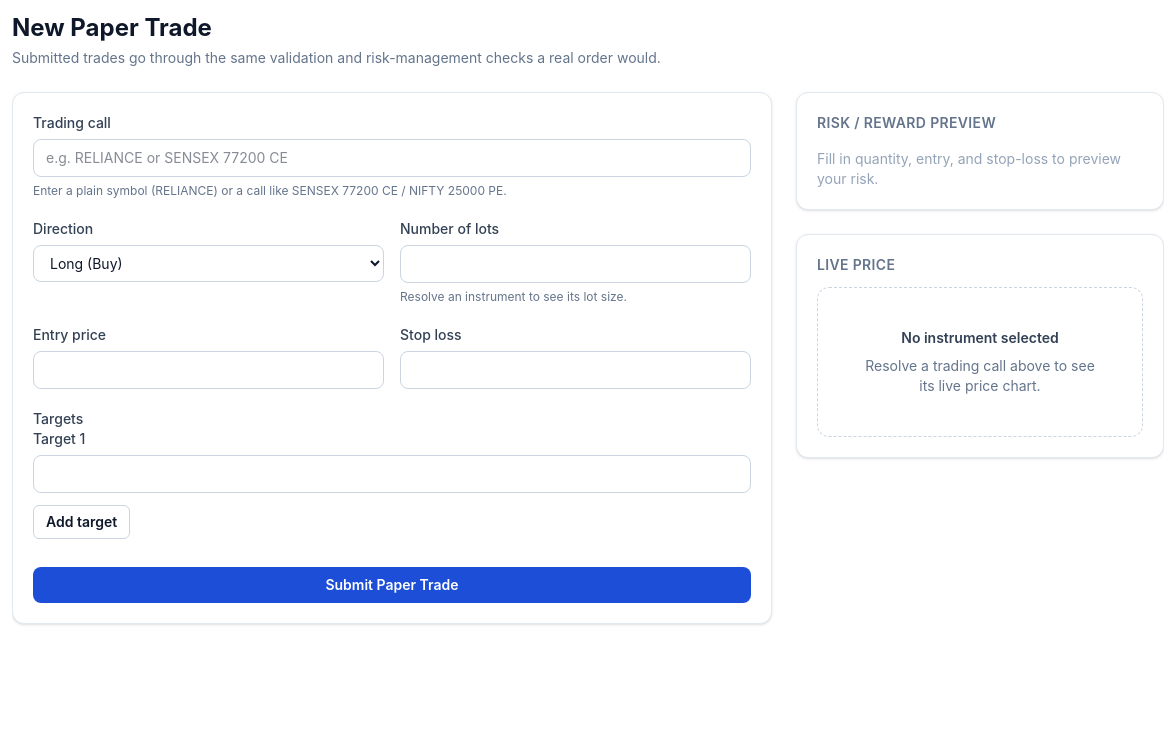
Test case: NewTrade page › shows a clear resolver error and never submits an unresolved instrument
The image size is (1164, 732).
Type "notreal" into the field labelled "Trading call" at point(392, 158), box [33,139,751,177]
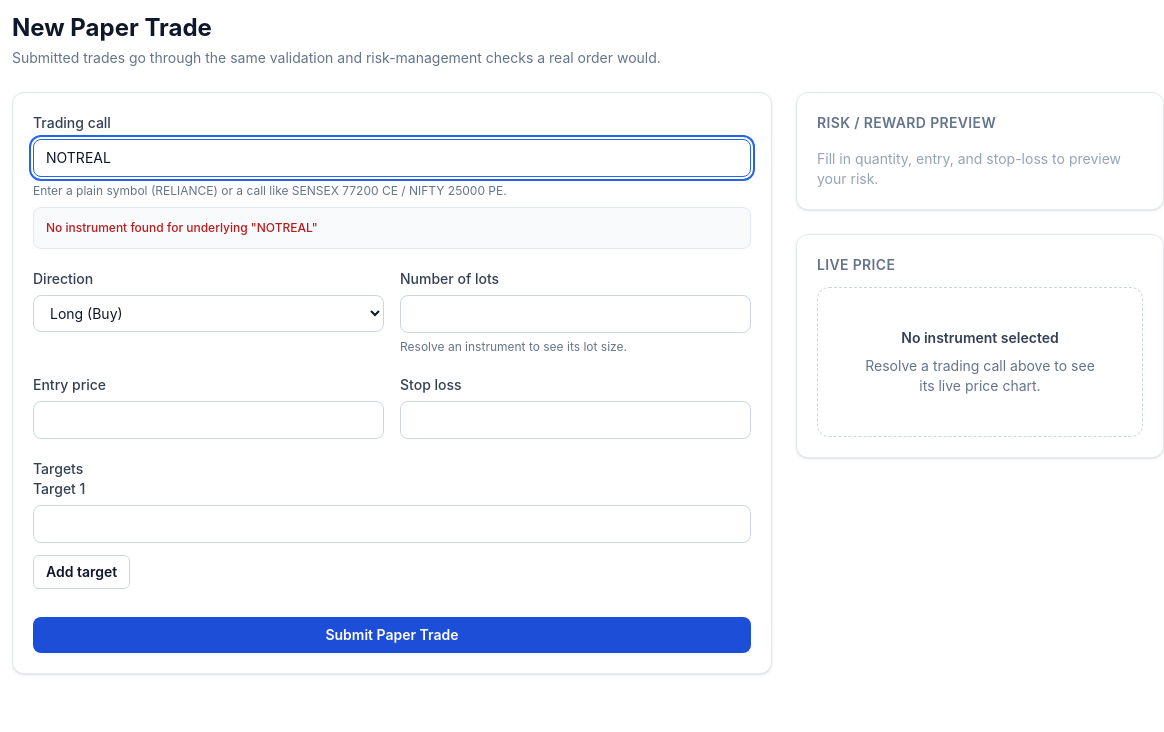
Now the text "No instrument found for underlying \"NOTREAL\"" is shown, box [46,220,318,235]
Type "10" into the number field labelled "Number of lots" at point(576, 314), box [400,295,751,333]
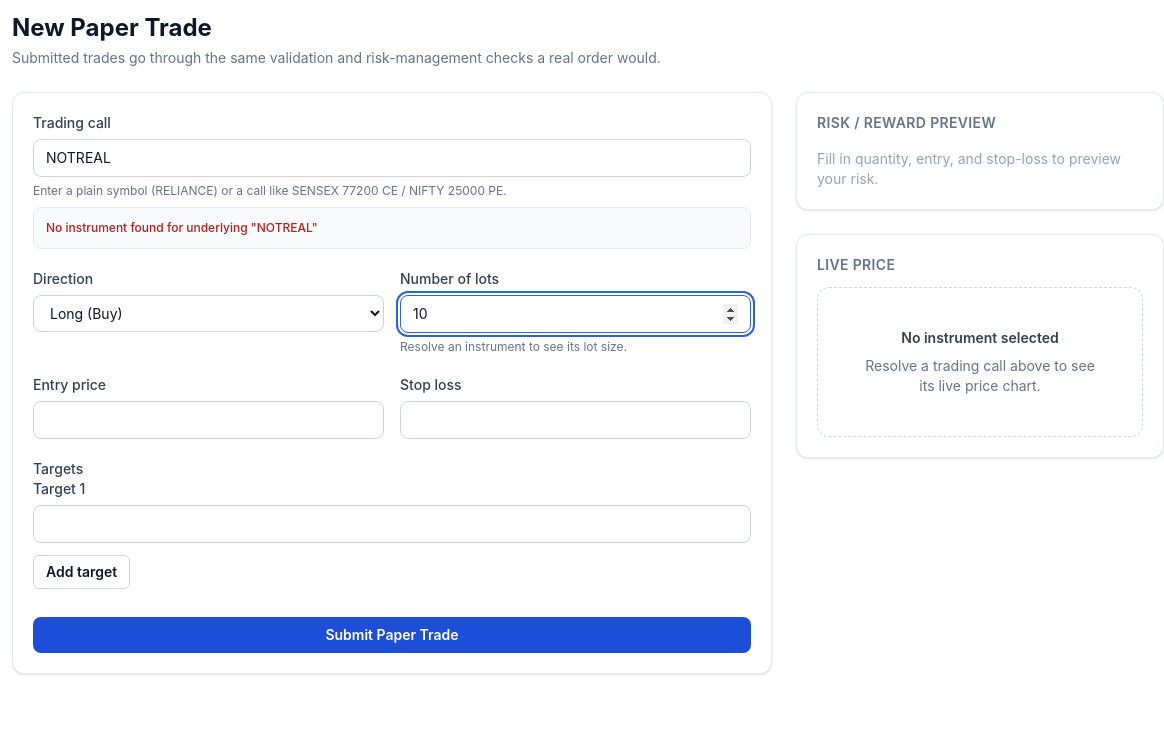
Type "100" into the number field labelled "Entry price" at point(208, 420), box [33,401,384,439]
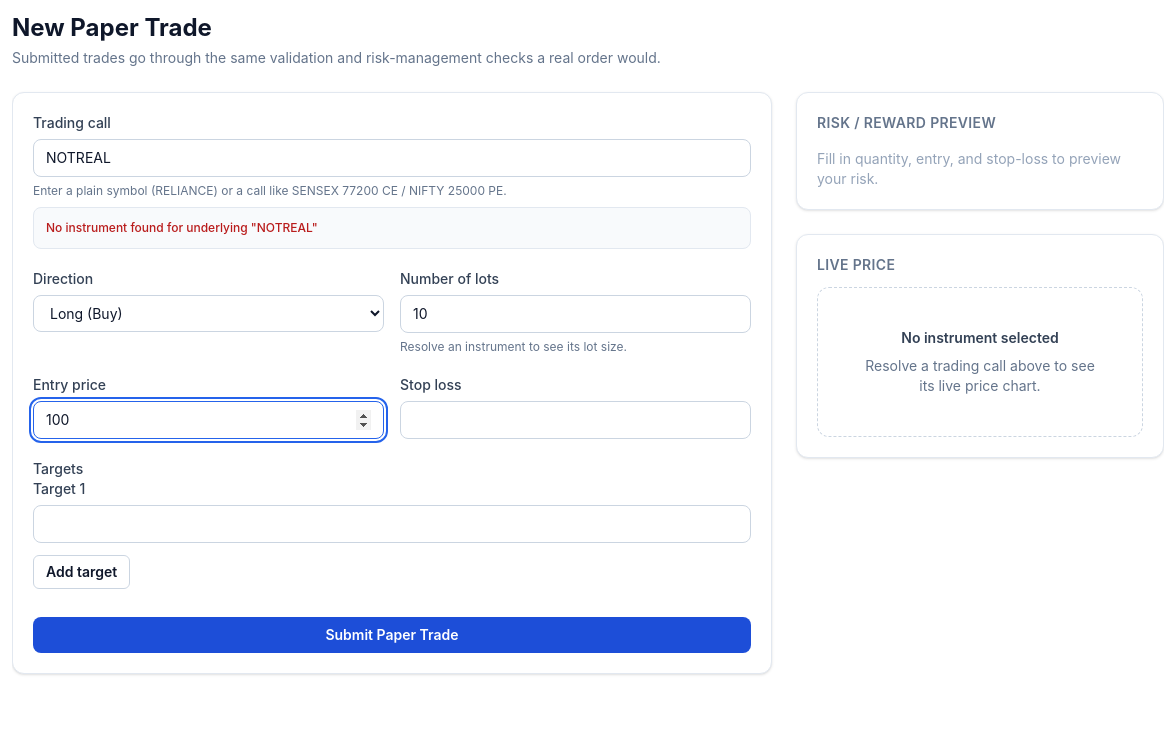
Type "95" into the number field labelled "Stop loss" at point(576, 420), box [400,401,751,439]
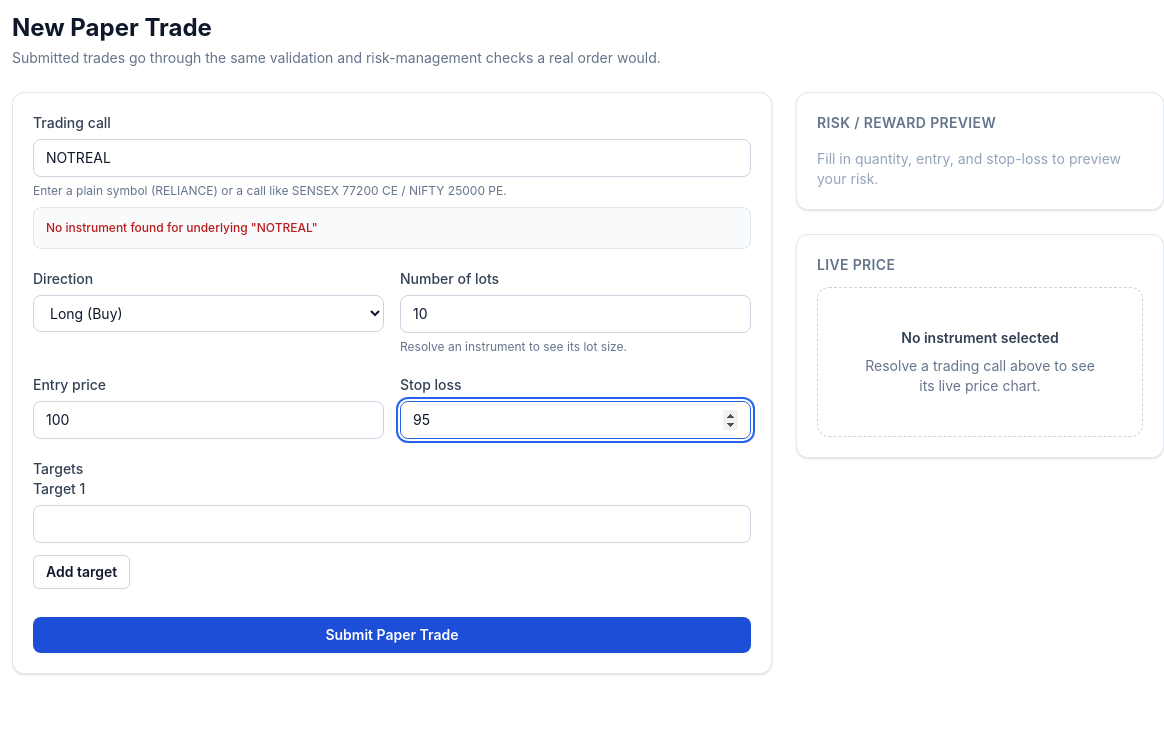
Type "110" into the number field labelled "Target 1" at point(392, 524), box [33,505,751,543]
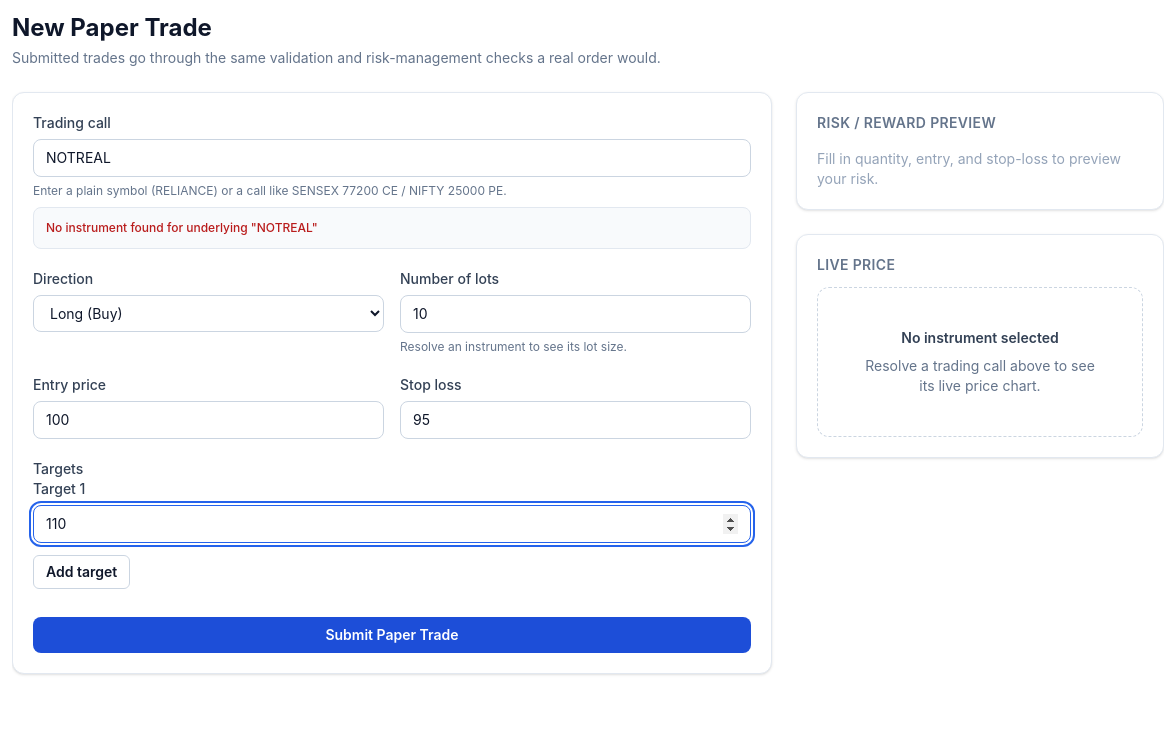
Click the button "Submit Paper Trade" at point(392, 635), box [33,617,751,653]
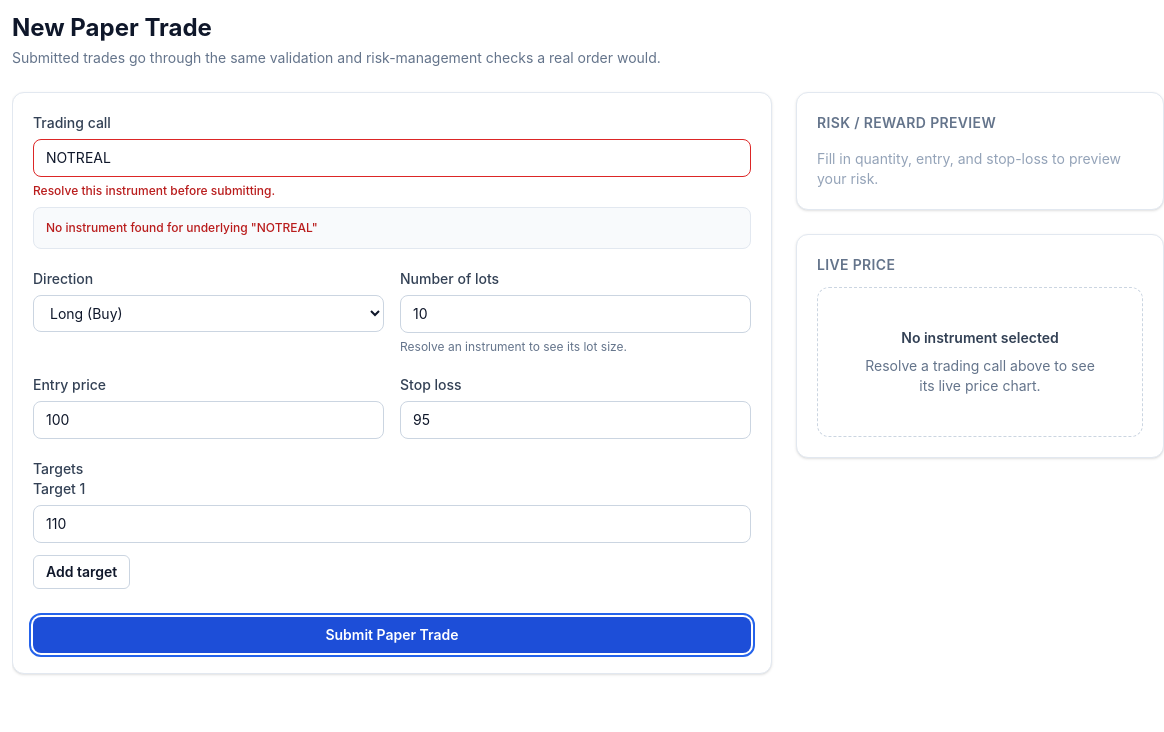
Now the text "Resolve this instrument before submitting." is shown, box [33,183,275,198]
